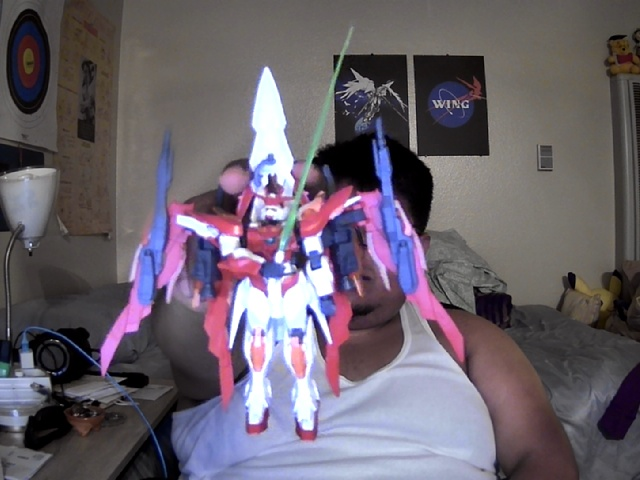Honoo: (96, 62, 465, 442)
